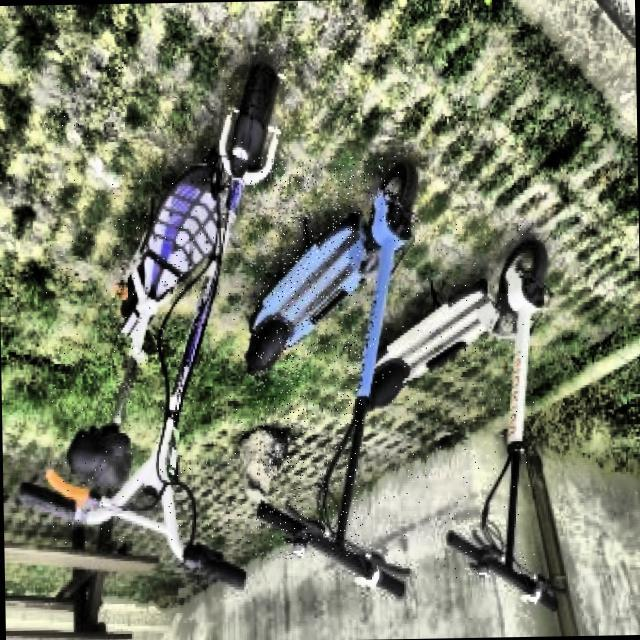bike: (20, 61, 420, 608)
